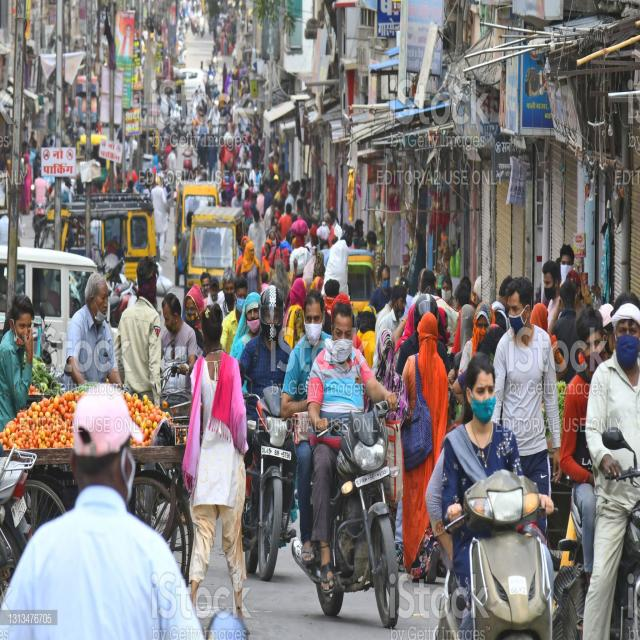With Helmet: (261, 278, 283, 338)
Without Helmet: (461, 350, 500, 426), (608, 294, 640, 386), (4, 300, 45, 354), (507, 278, 537, 339), (84, 270, 114, 330), (576, 304, 608, 359), (134, 259, 165, 314), (302, 288, 327, 348), (329, 297, 355, 354), (199, 307, 230, 354), (162, 290, 186, 340), (219, 269, 247, 311), (244, 291, 265, 344), (180, 286, 202, 324), (417, 310, 439, 348), (377, 328, 398, 363)
licence: (353, 463, 390, 493), (258, 442, 293, 466), (8, 494, 28, 524)
